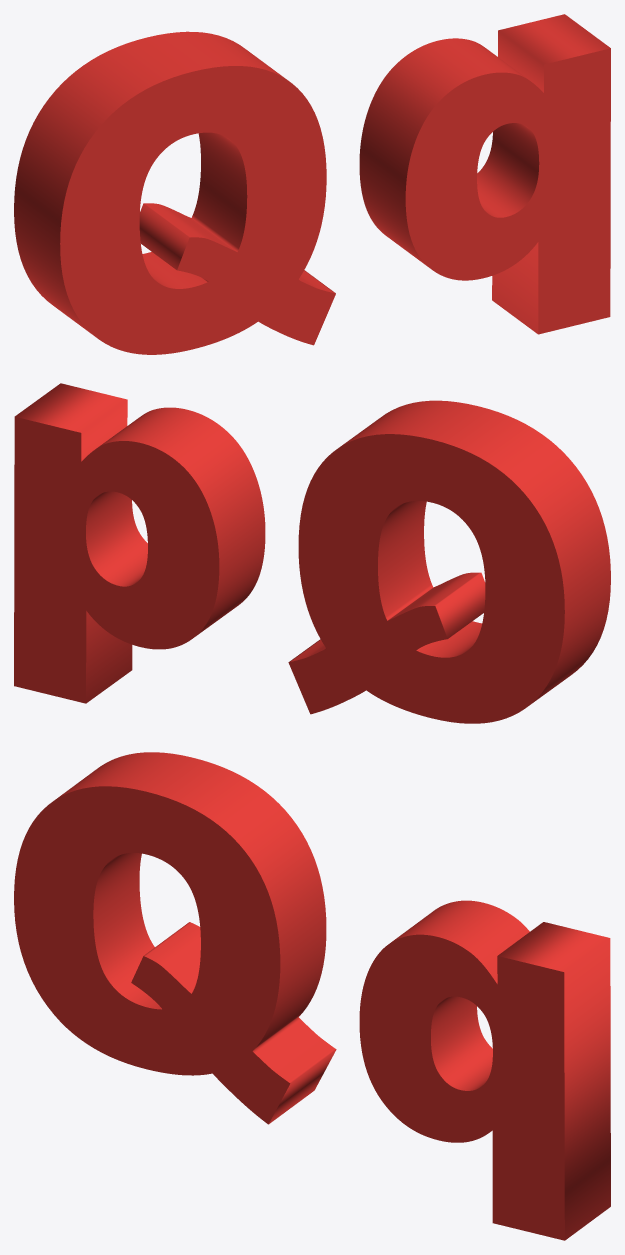
The model's file is letra q.fbx.
The picture shows the model from 3 angles, top to bottom: view 1: azimuth 30°, elevation 25°; view 2: azimuth 150°, elevation 25°; view 3: azimuth 330°, elevation 25°; orthographic projection.
Parts seen in each view (by area): view 1: Text; view 2: Text; view 3: Text.
Boxes of the visible parts, x1=… form: Text: x1=14, y1=14, x2=610, y2=354; Text: x1=14, y1=383, x2=610, y2=723; Text: x1=14, y1=752, x2=610, y2=1240.
Size of the model in its own units: 110 by 66.63 by 16.27.
